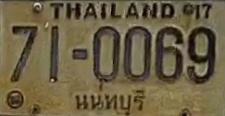0: (92, 25, 120, 83), (123, 25, 151, 82)
1: (49, 25, 58, 82)
6: (155, 26, 183, 83)
7: (10, 25, 37, 82)
9: (187, 26, 215, 84)
NBI: (68, 88, 149, 116)
